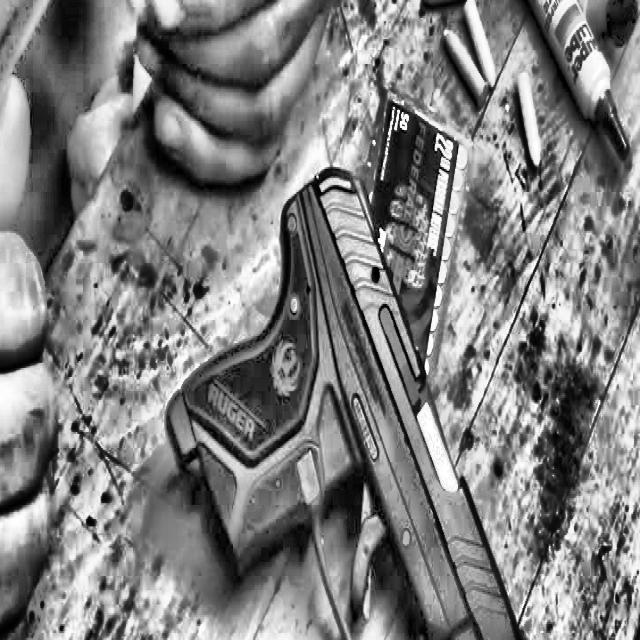Ruger: (165, 162, 530, 640)
